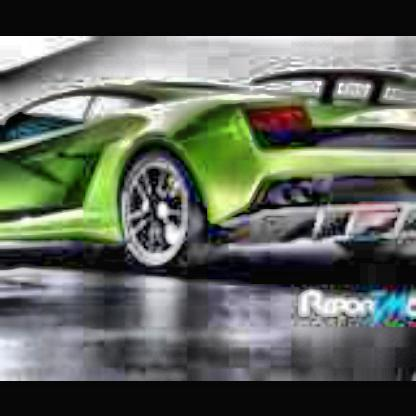Lamborghini Gallardo LP 570-4 Superleggera 2012: (6, 75, 416, 275)
